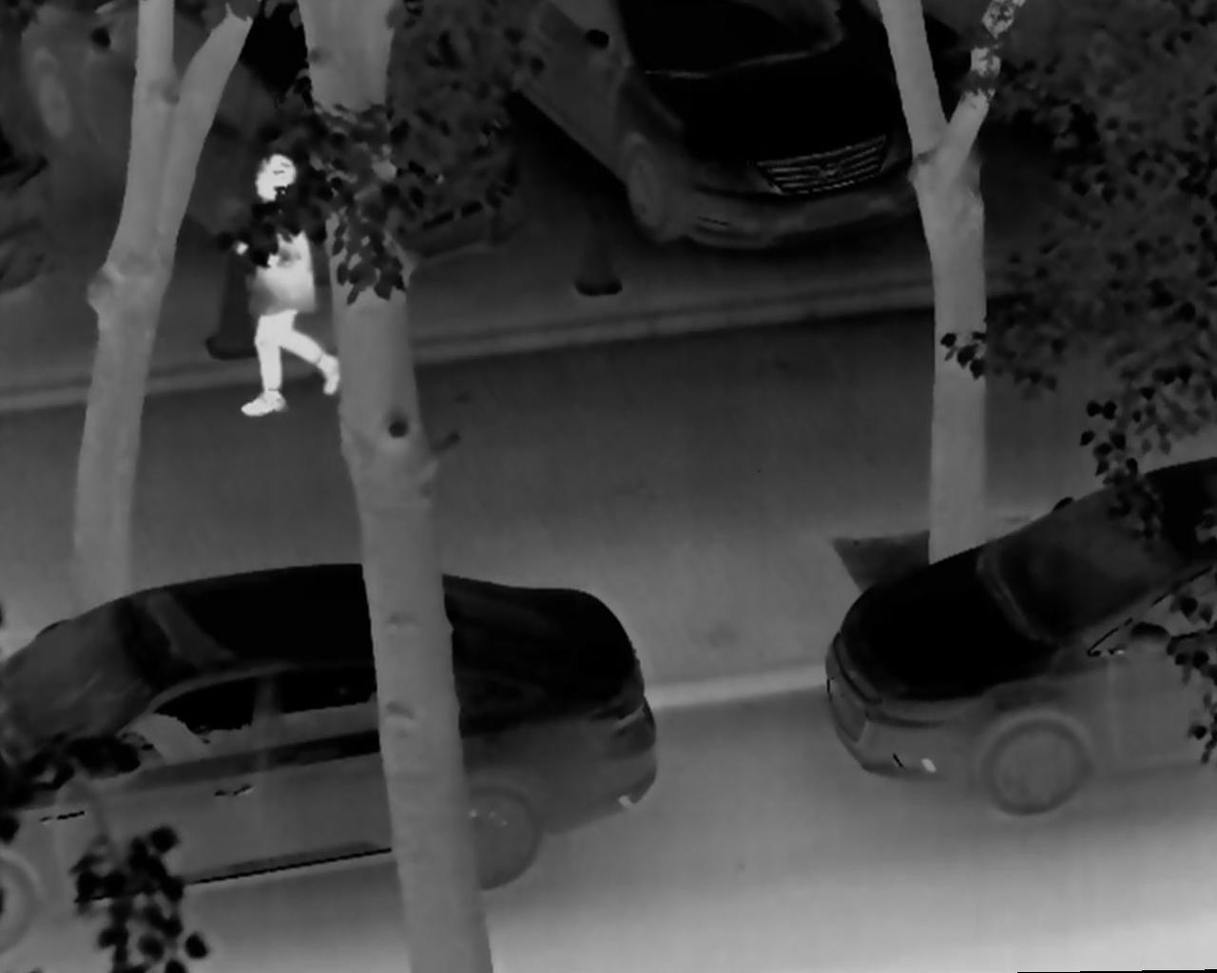person: (226, 153, 347, 423)
